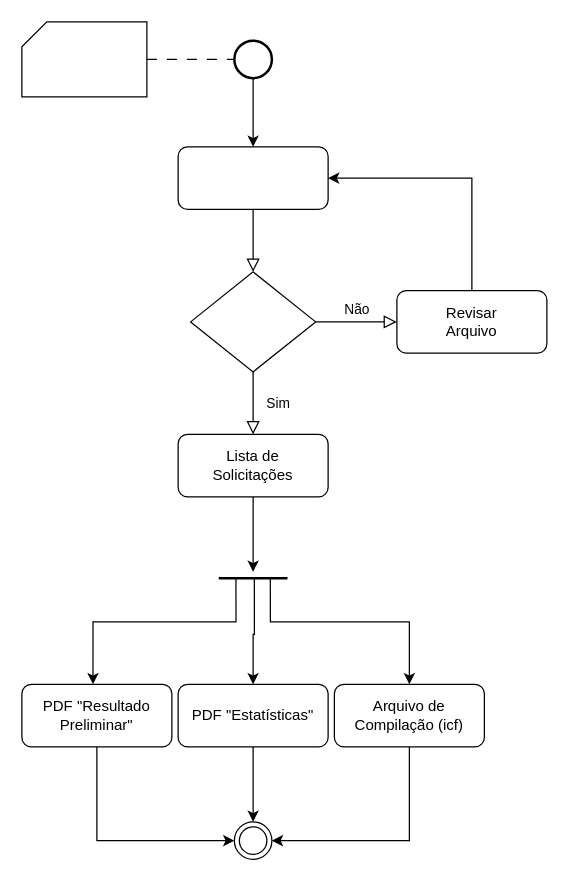
The diagram is 569 pixels wide and 881 high, and some of its shapes have lost their labels. The centre of each missing label's shape, as x and y in pixels:
Análise de Arquivo: (252,177)
Arquivo é válido?: (252,321)
Retorno SISTAC Planilha de Erros: (84,59)
